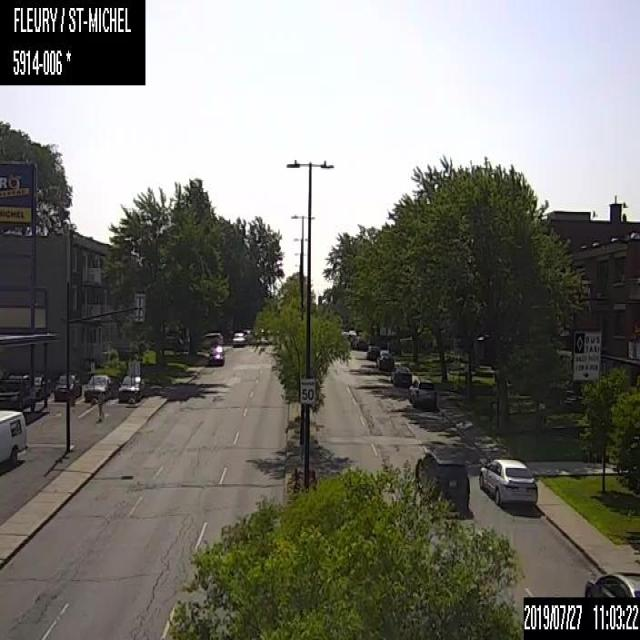vehicle: (415, 447, 470, 512), (477, 456, 538, 509), (581, 567, 639, 596), (0, 406, 27, 468), (407, 377, 438, 408), (118, 372, 144, 402), (83, 374, 110, 402), (54, 373, 80, 402), (390, 362, 412, 387), (34, 373, 49, 401), (200, 331, 223, 348), (376, 350, 394, 370), (208, 344, 225, 364), (231, 328, 247, 346), (352, 335, 367, 349), (365, 345, 379, 360)
